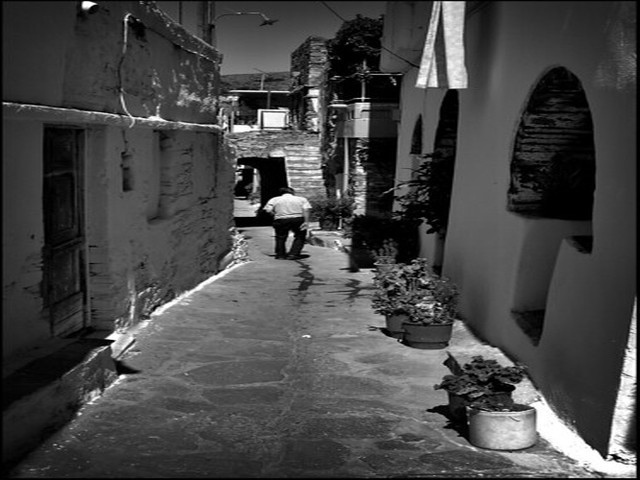Person: (261, 182, 314, 262)
